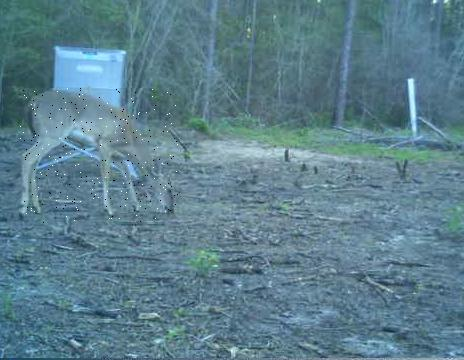Deer: (19, 89, 179, 224)
